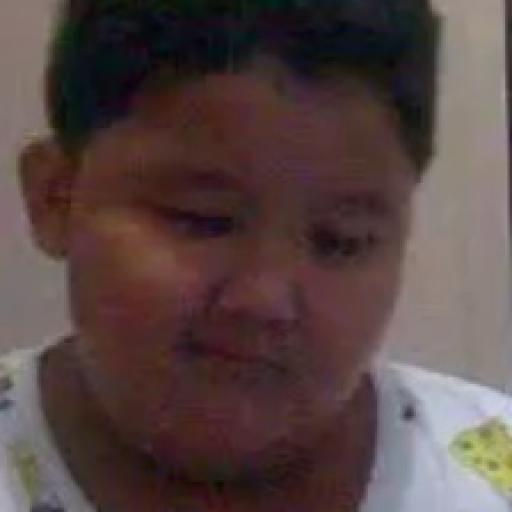Autism: (46, 16, 474, 487)
